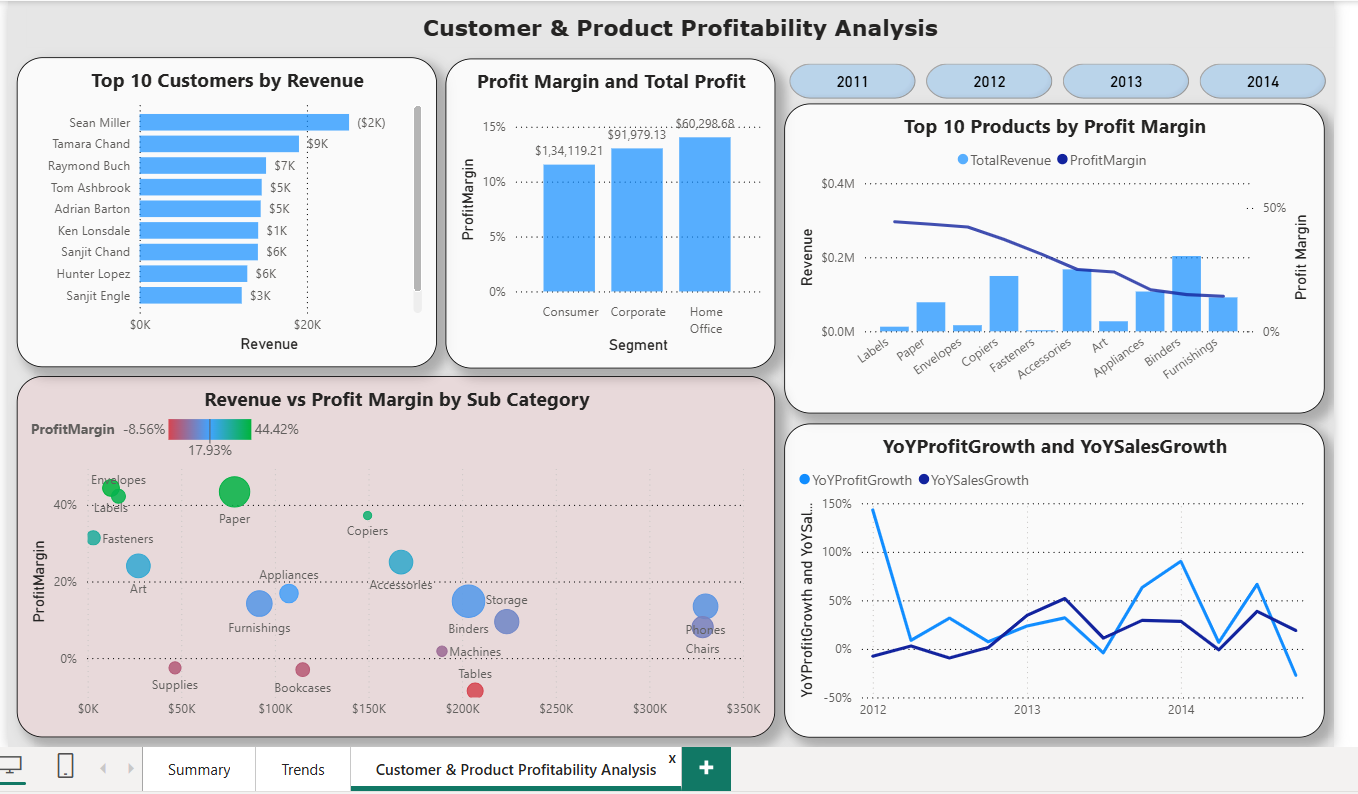

The dashboard page shown, as its layout file describes it:
{"tool":"powerbi","page":{"name":"Customer & Product Profitability Analysis","canvas":[1280,720],"ordinal":2},"visuals":[{"type":"barChart","title":"Top 10 Customers by Revenue","fields":{"Y":["All Measures.TotalRevenue"],"Category":["CustomerDetails.Customer_Name"]},"box":[8.3,54.3,405.4,299],"z":0},{"type":"clusteredColumnChart","title":"Profit Margin and Total Profit","fields":{"Category":["Customers.Segment"],"Y":["All Measures.ProfitMargin"]},"box":[422.2,55.4,318.5,299],"z":1000},{"type":"lineClusteredColumnComboChart","title":"Top 10 Products by Profit Margin","fields":{"Category":["Products.Sub_Category"],"Y2":["All Measures.ProfitMargin"],"Y":["All Measures.TotalRevenue"]},"box":[749.1,99.4,521.2,299],"z":2000},{"type":"scatterChart","title":"Revenue vs Profit Margin by Sub Category","fields":{"X":["All Measures.TotalRevenue"],"Size":["All Measures.TotalQuantity"],"Category":["Products.Sub_Category"],"Y":["All Measures.ProfitMargin"]},"box":[8.3,362.3,732.3,348.7],"z":3000},{"type":"lineChart","title":"YoYProfitGrowth and YoYSalesGrowth","fields":{"Y":["All Measures.YoYProfitGrowth","All Measures.YoYSalesGrowth"],"Category":["DateTable.Date.Variation.Date Hierarchy.Year","DateTable.Date.Variation.Date Hierarchy.Quarter"]},"box":[749.1,407.4,521.2,303.5],"z":4000},{"type":"advancedSlicerVisual","fields":{"Values":["DateTable.Year"]},"box":[749.1,55.4,530.9,44],"z":5000},{"type":"textbox","box":[18.1,7,1261.9,37.6],"z":6000}]}

Visuals, with their boxes on the page's 1280x720 design canvas (x1, y1, x2, y2). These are canvas units, not pixel positions in the 1358x794 screenshot, which may show the page scaled, cropped or inside an application window:
"Top 10 Customers by Revenue" barChart: 8,54,414,353
"Profit Margin and Total Profit" clusteredColumnChart: 422,55,741,354
"Top 10 Products by Profit Margin" lineClusteredColumnComboChart: 749,99,1270,398
"Revenue vs Profit Margin by Sub Category" scatterChart: 8,362,741,711
"YoYProfitGrowth and YoYSalesGrowth" lineChart: 749,407,1270,711
advancedSlicerVisual - DateTable.Year: 749,55,1280,99
textbox: 18,7,1280,45
